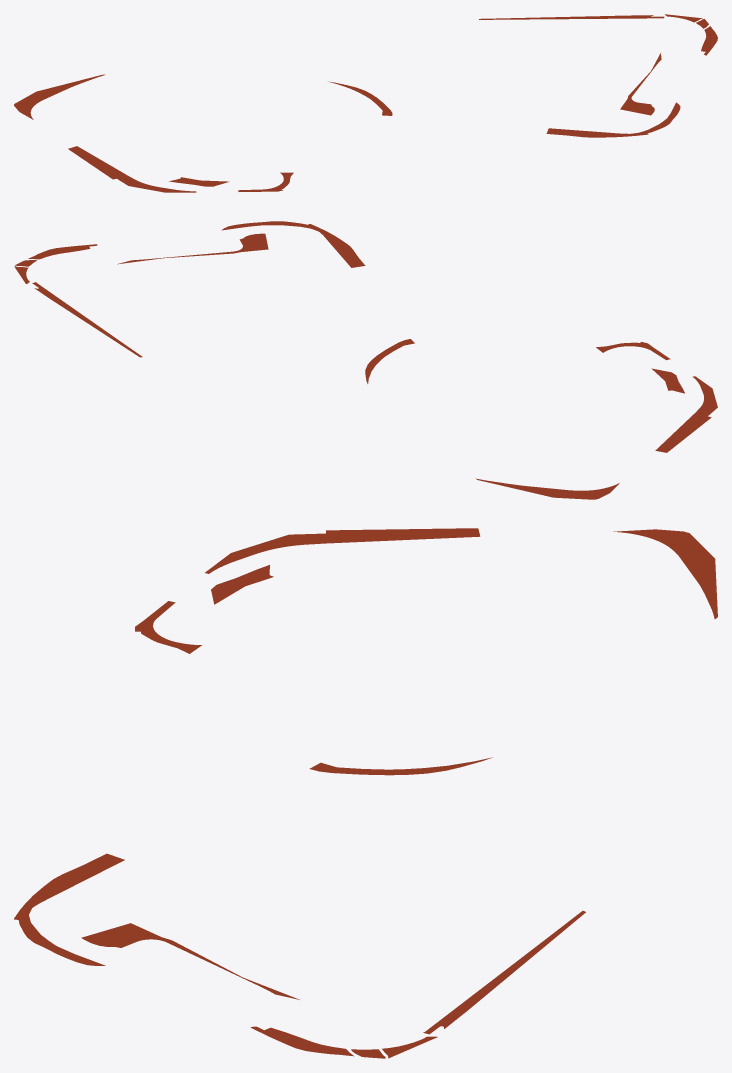
File: soil_02.FBX
3 renders of one model, top to bottom at view 1: azimuth 30°, elevation 25°; view 2: azimuth 150°, elevation 25°; view 3: azimuth 270°, elevation 25°, orthographic. The views are drawn at different scales.
Visible parts, largest first — view 1: Soil_02; view 2: Soil_02; view 3: Soil_02.
Boxes of the visible parts, x1,y1,x2,y2 form: Soil_02: (14, 14, 717, 192); Soil_02: (14, 221, 717, 499); Soil_02: (14, 528, 717, 1058).
Bounding box in the file's own units: 100287 × 10 × 56217.
